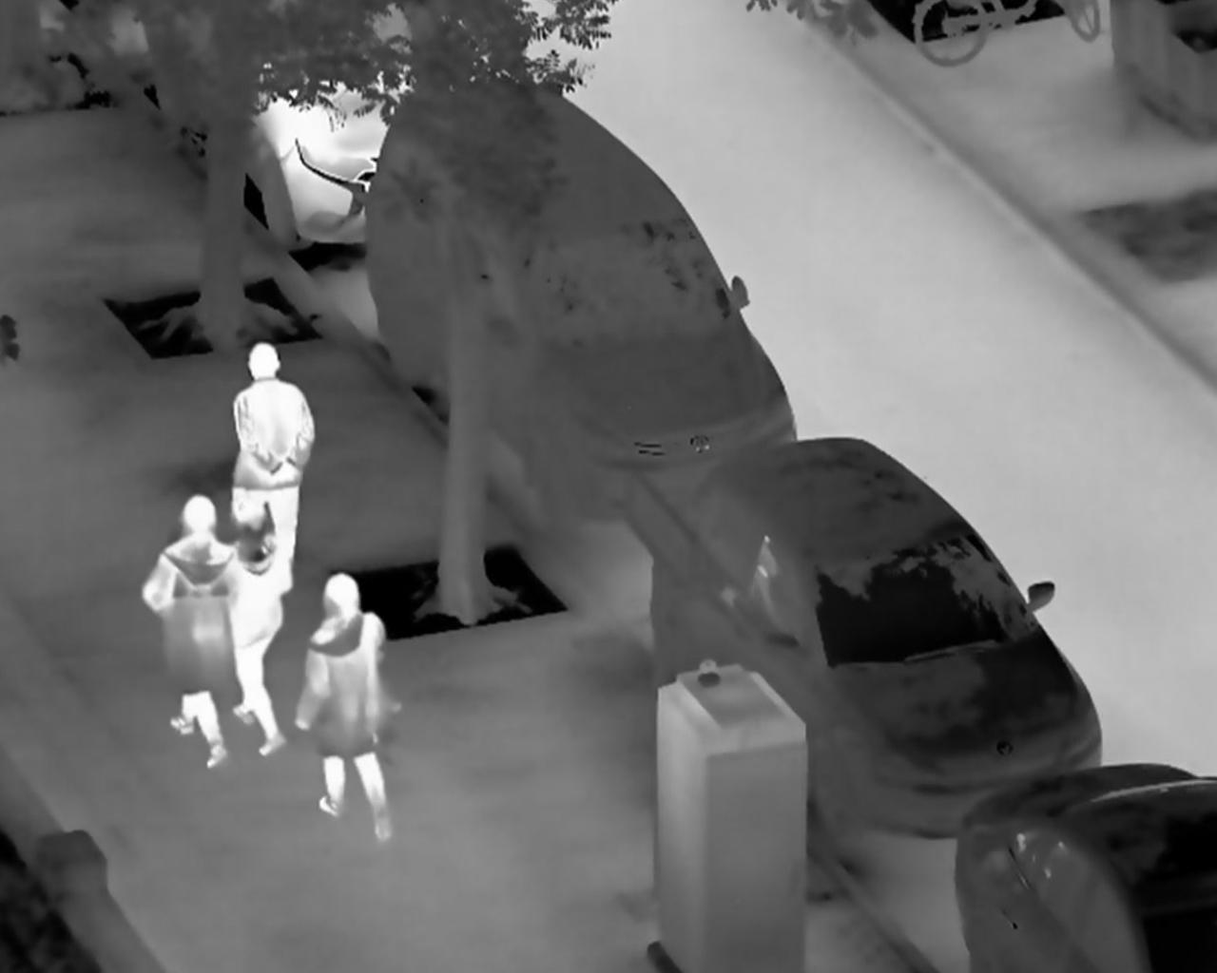person: (141, 492, 242, 771), (296, 570, 396, 844), (227, 342, 313, 562), (221, 505, 289, 761)
